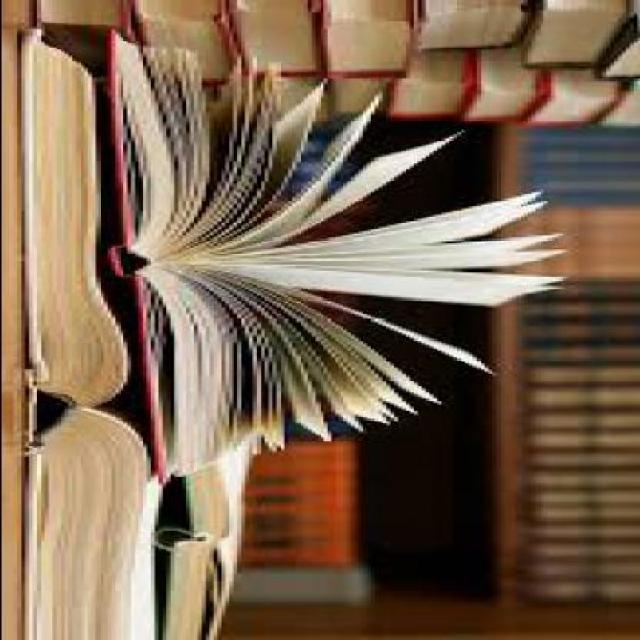PAPER: (111, 28, 569, 487), (19, 27, 161, 639), (160, 464, 252, 638), (256, 446, 362, 572), (134, 2, 248, 87), (526, 129, 639, 209), (522, 206, 640, 279), (325, 1, 421, 84), (522, 2, 636, 70), (231, 1, 326, 78), (420, 2, 534, 56), (232, 569, 373, 609), (36, 1, 142, 54), (389, 55, 463, 120), (471, 54, 534, 126), (534, 68, 608, 128), (526, 386, 639, 412), (526, 322, 639, 348), (526, 366, 639, 391), (600, 9, 638, 83), (530, 280, 638, 306), (518, 300, 638, 323), (526, 472, 639, 496), (534, 449, 638, 474), (526, 411, 639, 434), (534, 544, 638, 568), (526, 582, 639, 604), (593, 80, 639, 132), (534, 488, 638, 510), (542, 430, 638, 452), (537, 509, 638, 529), (537, 348, 638, 368), (526, 566, 639, 583), (537, 526, 638, 545)
